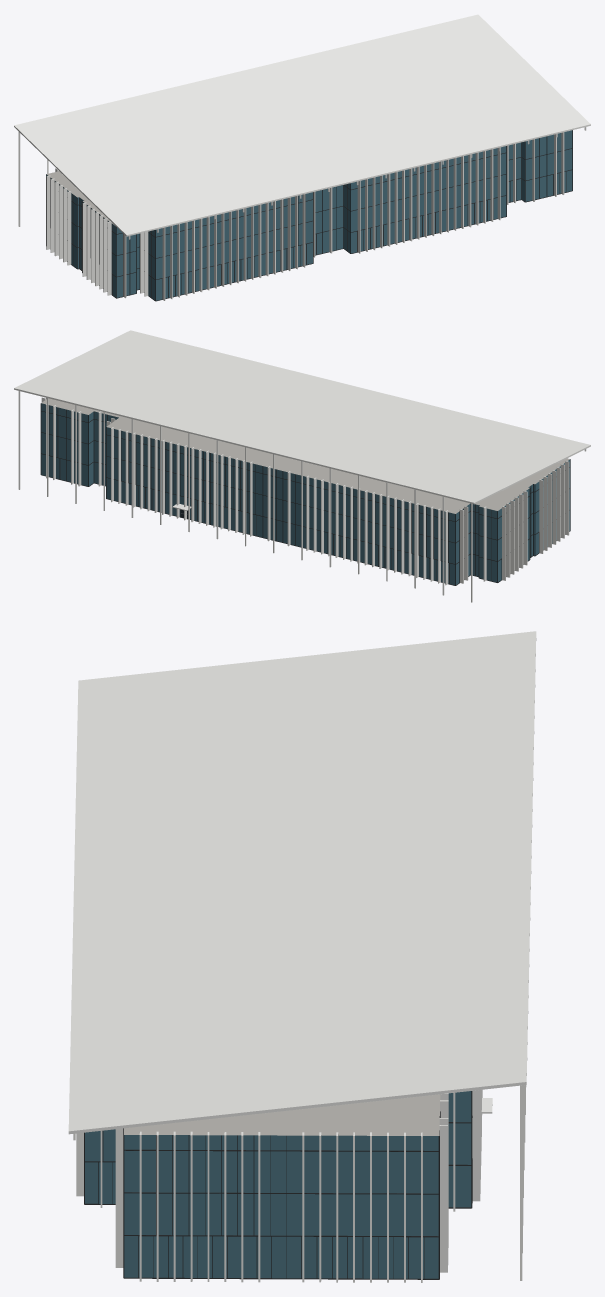
Rendered from founders_building.glb.
3 renders of one model, top to bottom at view 1: azimuth 30°, elevation 25°; view 2: azimuth 150°, elevation 25°; view 3: azimuth 270°, elevation 25°, orthographic. The views are drawn at different scales.
Visible parts, largest first — view 1: founders_building_Trim_White, founders_building_Glass_teal, founders_building_Frame_Dark, founders_building_Roof_Membrane; view 2: founders_building_Trim_White, founders_building_Glass_teal, founders_building_Roof_Membrane, founders_building_Frame_Dark; view 3: founders_building_Trim_White, founders_building_Glass_teal, founders_building_Roof_Membrane, founders_building_Frame_Dark.
Boxes of the visible parts, bbox=[...] form: founders_building_Trim_White: bbox=[14, 14, 590, 300]; founders_building_Glass_teal: bbox=[46, 130, 572, 300]; founders_building_Frame_Dark: bbox=[46, 130, 572, 301]; founders_building_Roof_Membrane: bbox=[46, 171, 114, 225]; founders_building_Trim_White: bbox=[14, 330, 590, 602]; founders_building_Glass_teal: bbox=[41, 403, 570, 585]; founders_building_Roof_Membrane: bbox=[41, 398, 569, 513]; founders_building_Frame_Dark: bbox=[40, 403, 570, 585]; founders_building_Trim_White: bbox=[68, 631, 536, 1282]; founders_building_Glass_teal: bbox=[85, 1091, 471, 1278]; founders_building_Roof_Membrane: bbox=[124, 1094, 440, 1135]; founders_building_Frame_Dark: bbox=[84, 1091, 472, 1279].
Size of the model in its own units: 114 by 23.79 by 49.71.
